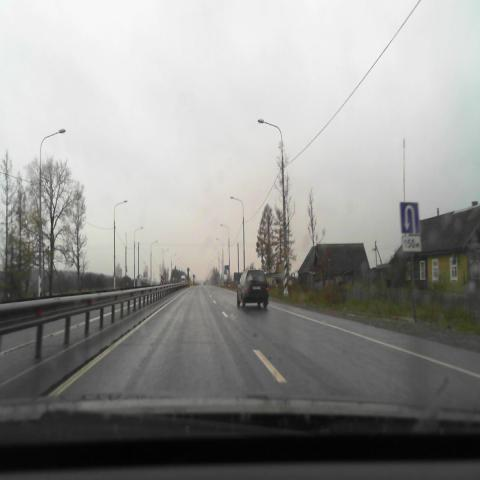6_3_1: (400, 202, 420, 234)
8_1_1: (402, 236, 421, 252)
